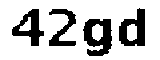2: (50, 7, 79, 51)
4: (5, 7, 45, 52)
d: (118, 6, 148, 52)
g: (82, 14, 116, 60)
